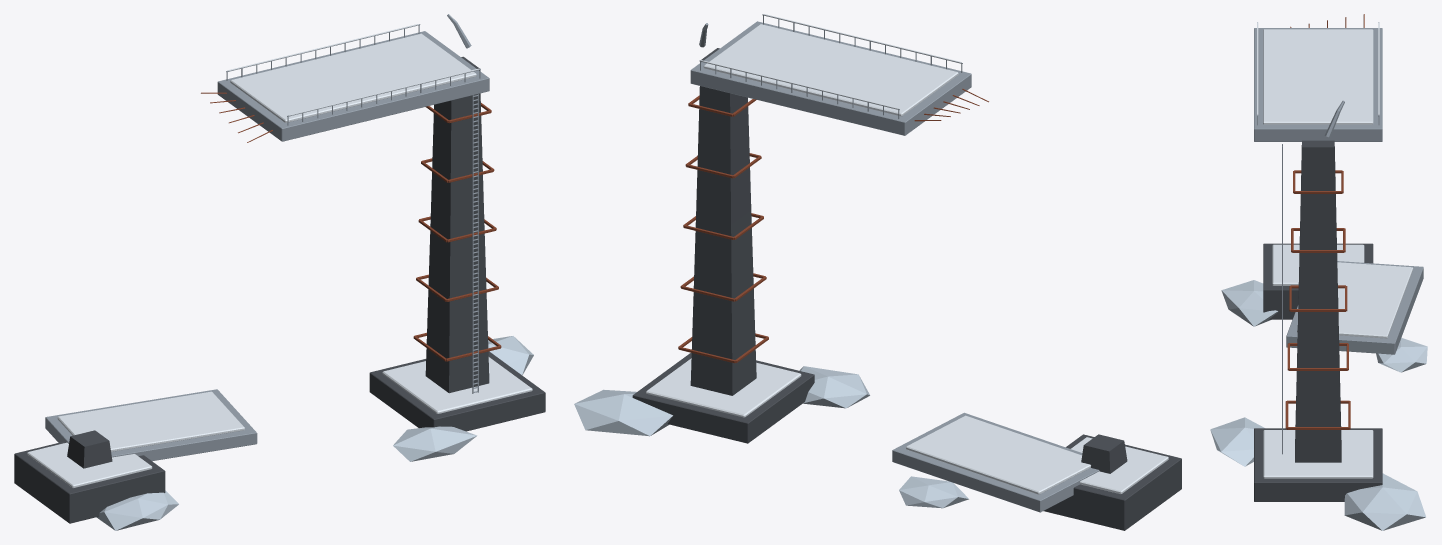
File: Heritage_Bridge.fbx
3 views of the same model, side by side, from view 1: azimuth 30°, elevation 25°; view 2: azimuth 150°, elevation 25°; view 3: azimuth 270°, elevation 25° (orthographic). The views are drawn at different scales.
Visible parts, largest first — view 1: Heritage_Bridge; view 2: Heritage_Bridge; view 3: Heritage_Bridge.
Part boxes in pixels (x1,y1,x2,y2): Heritage_Bridge: (14,14,545,530); Heritage_Bridge: (574,14,1181,530); Heritage_Bridge: (1210,14,1427,530).
Size of the model in its own units: 6562 by 4680 by 2368.
